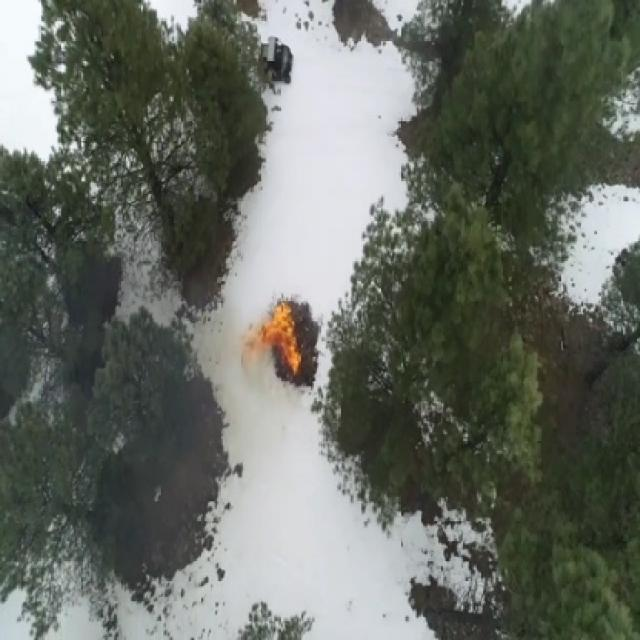Fire: (251, 298, 303, 380)
